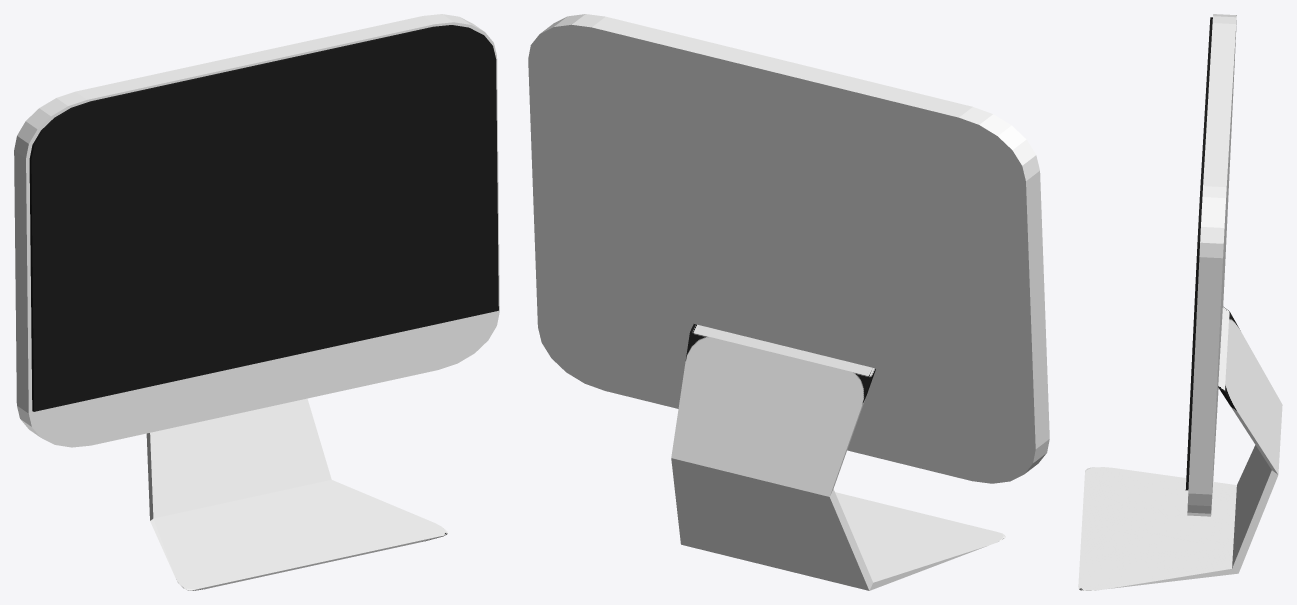
File: imac.glb
3 renders of one model, left to right at view 1: azimuth 30°, elevation 25°; view 2: azimuth 150°, elevation 25°; view 3: azimuth 270°, elevation 25°, orthographic. The views are drawn at different scales.
Visible parts, largest first — view 1: Plane.002, Plane; view 2: Plane; view 3: Plane, Plane.002.
Part boxes in pixels (<box>): Plane.002: <box>29,25,498,411</box>; Plane: <box>14,14,499,590</box>; Plane: <box>528,14,1049,590</box>; Plane: <box>1078,14,1282,590</box>; Plane.002: <box>1185,17,1212,490</box>.
Bounding box in the file's own units: 2.88 × 2.7 × 1.15.
1 material, 1 textured.
